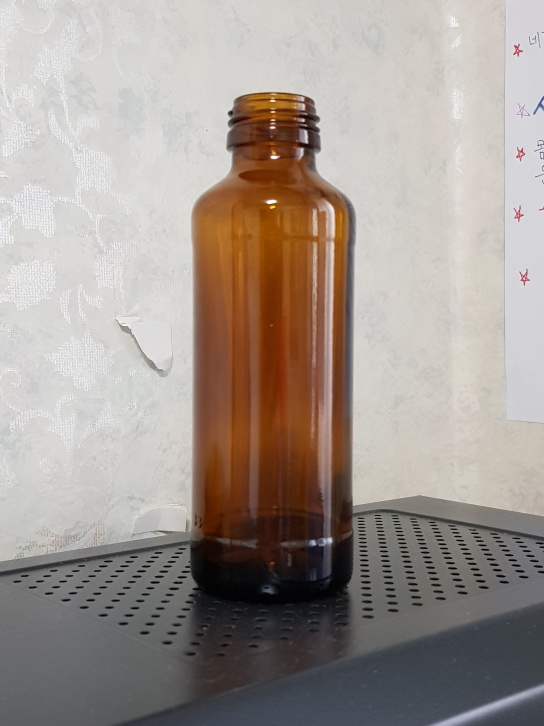Glass: (190, 89, 358, 602)
